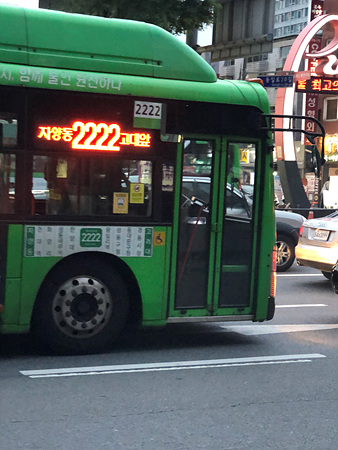entrance: (175, 133, 257, 320)
